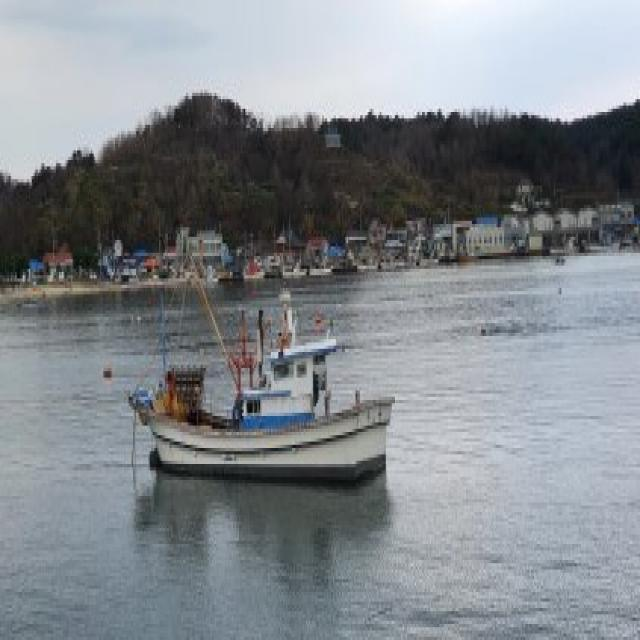Ship: (119, 315, 410, 523)
